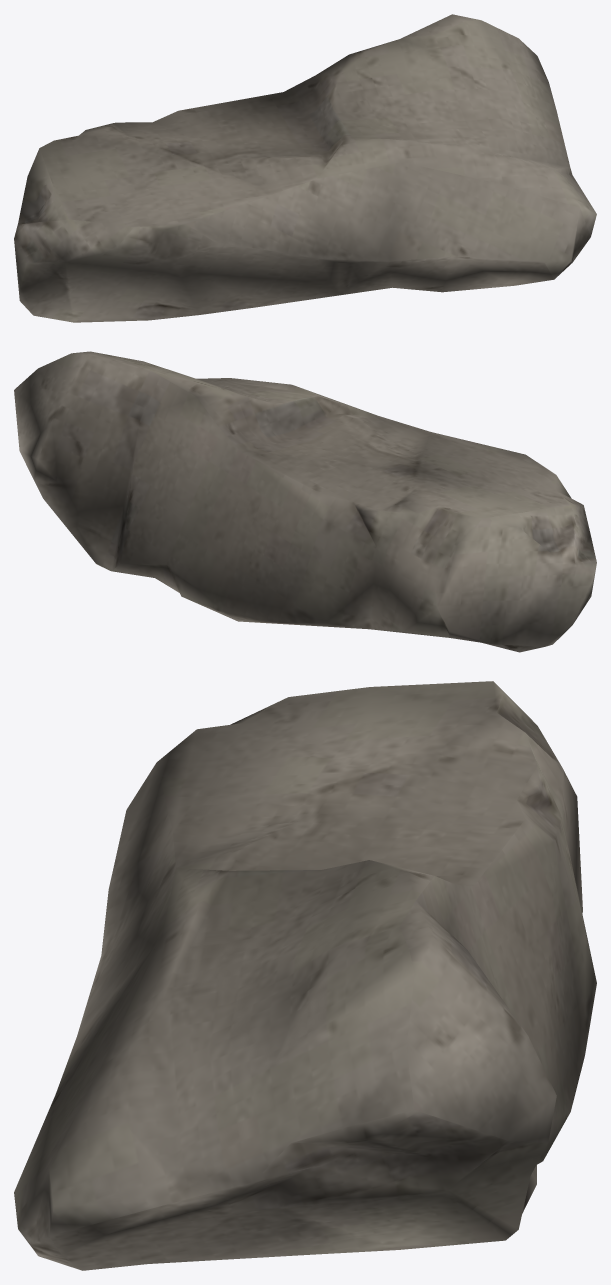
File: moon_rock_01.glb
3 views of the same model, one above another, from view 1: azimuth 30°, elevation 25°; view 2: azimuth 150°, elevation 25°; view 3: azimuth 270°, elevation 25° (orthographic). The views are drawn at different scales.
Parts seen in each view (by area): view 1: moon_rock_01_LOD0; view 2: moon_rock_01_LOD0; view 3: moon_rock_01_LOD0.
Part boxes in pixels (box(x1,y1,x2,y2)): moon_rock_01_LOD0: box(14, 14, 596, 322); moon_rock_01_LOD0: box(14, 351, 596, 652); moon_rock_01_LOD0: box(14, 681, 596, 1270).
Size of what is drawn, in the model's own units: 0.2121 by 0.0747 by 0.1107.
Materials: 1 (1 with a texture image).
